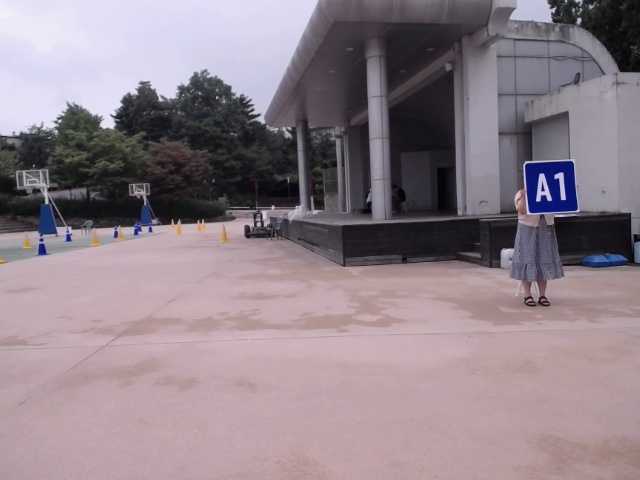delivery_a1: (523, 160, 579, 214)
